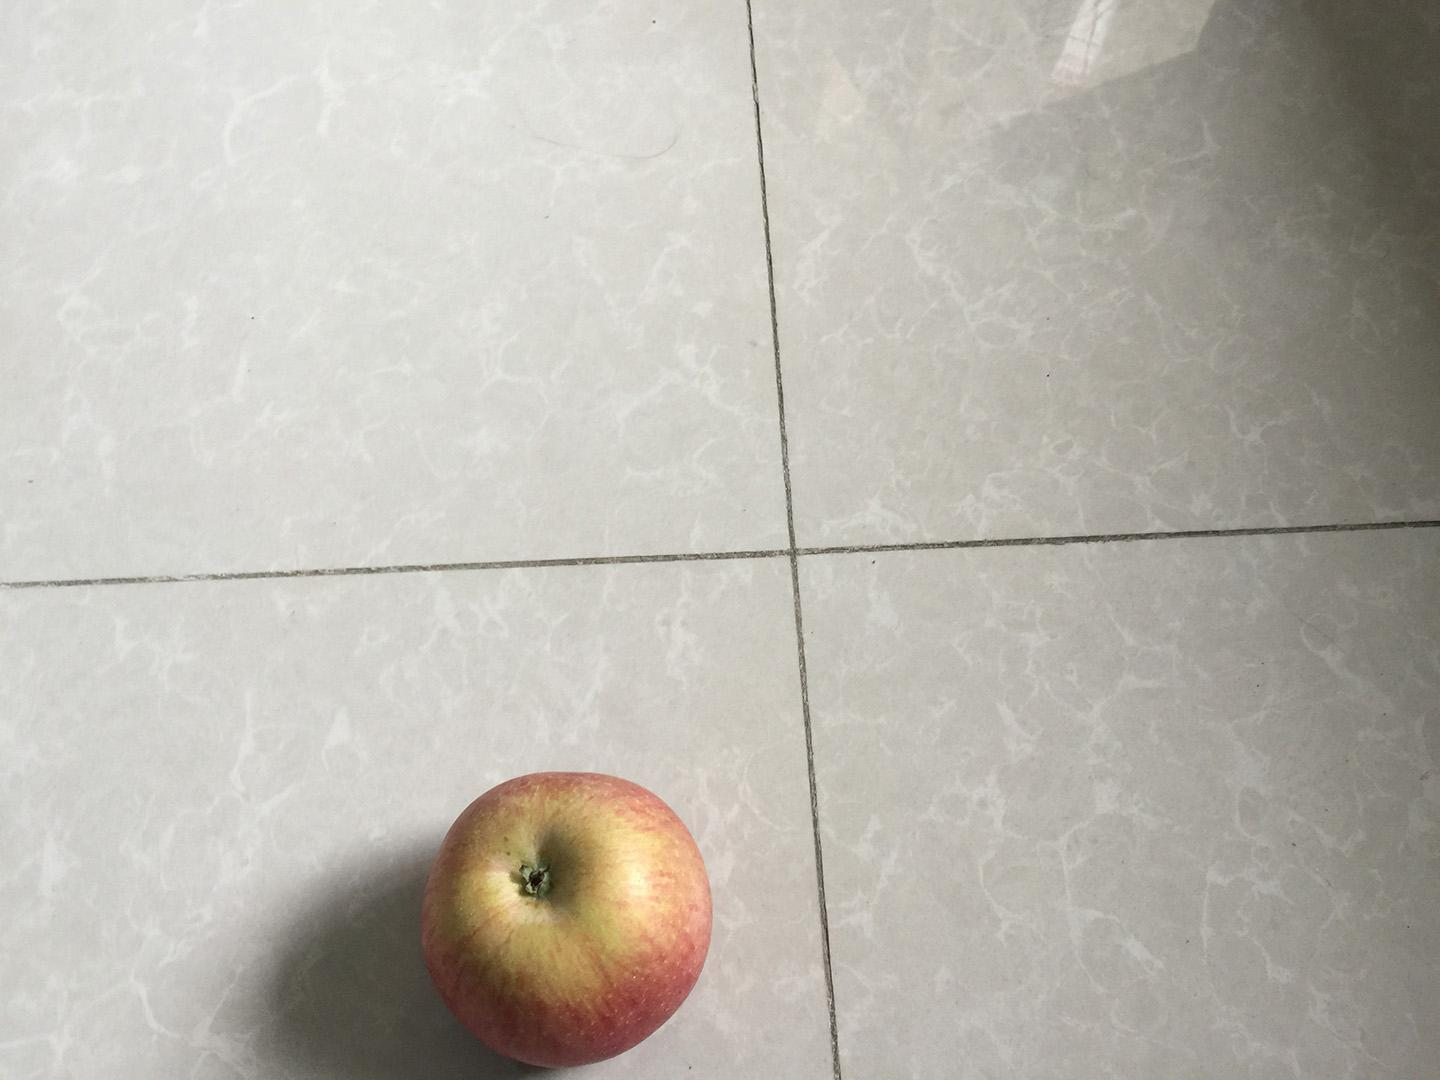apple: (410, 763, 720, 1074)
